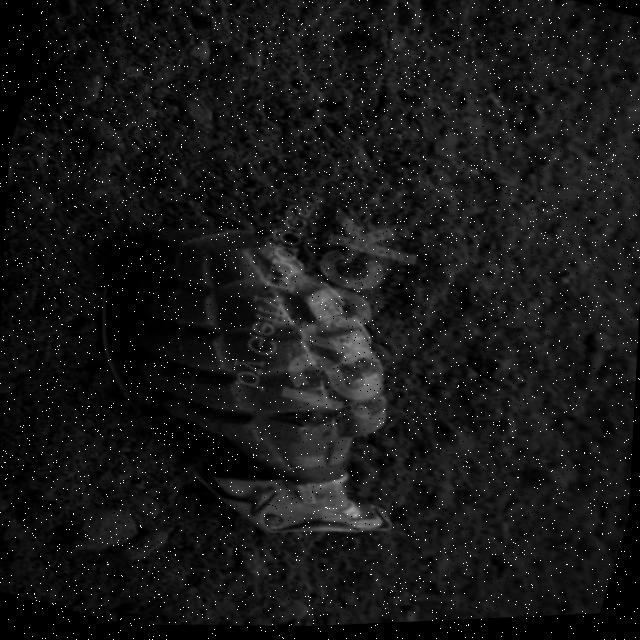grenade: (38, 175, 473, 589)
